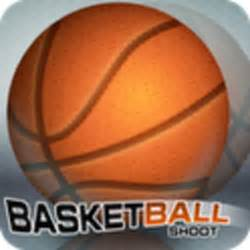basketball: (8, 4, 229, 195)
